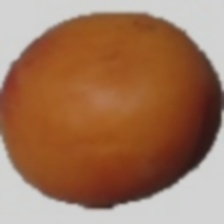apricot: (50, 22, 196, 196)
